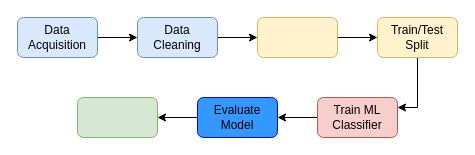
Image size: 475x155. Some labels were removed from this diagram. Here are the shapes that lost their labels. From the top down, the centre of each, then its label:
[297,37]: Feature Extraction
[117,117]: Test Model
